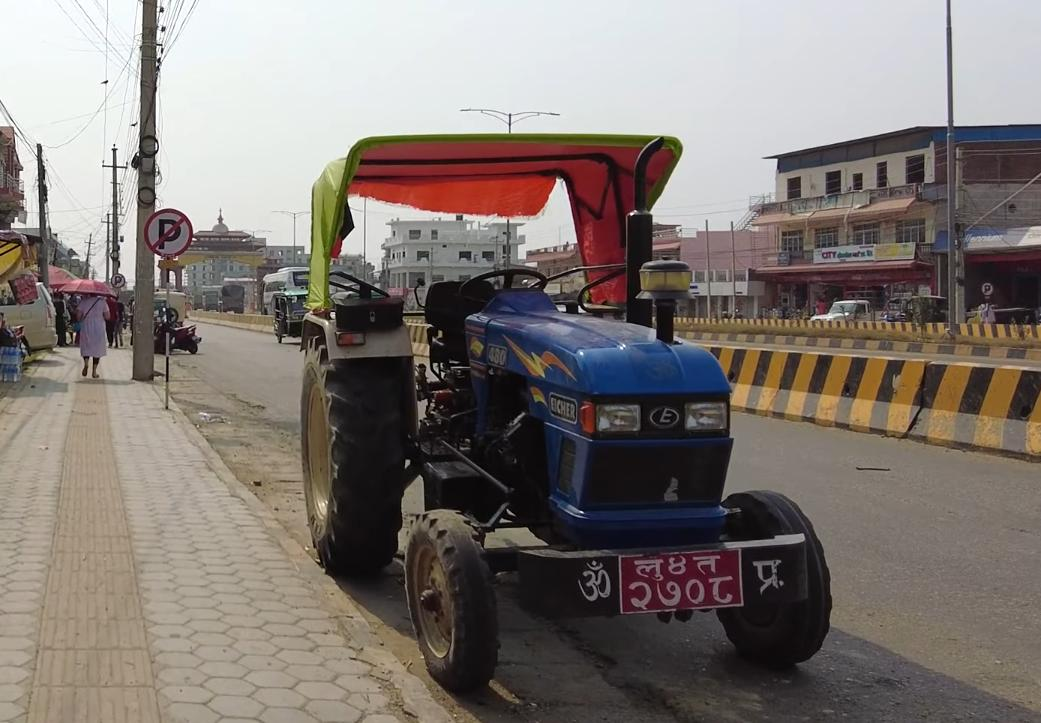tractor: (287, 113, 837, 700)
